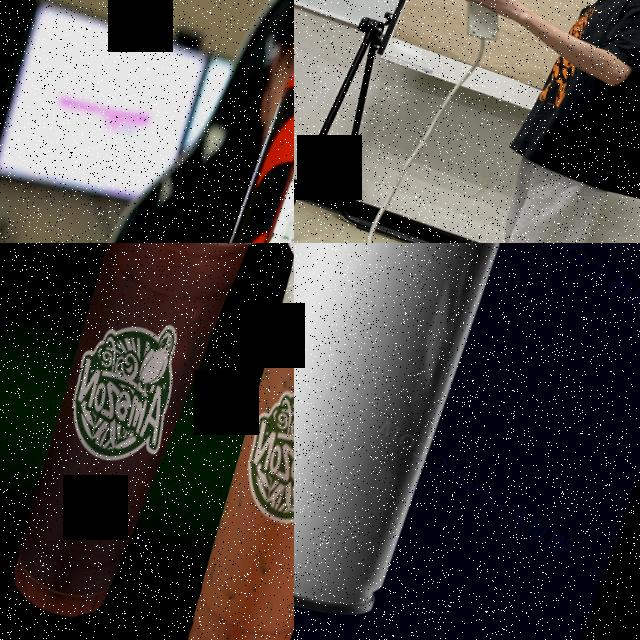can: (294, 243, 522, 634), (147, 9, 294, 243)
cup: (0, 243, 294, 640), (142, 243, 294, 640)
